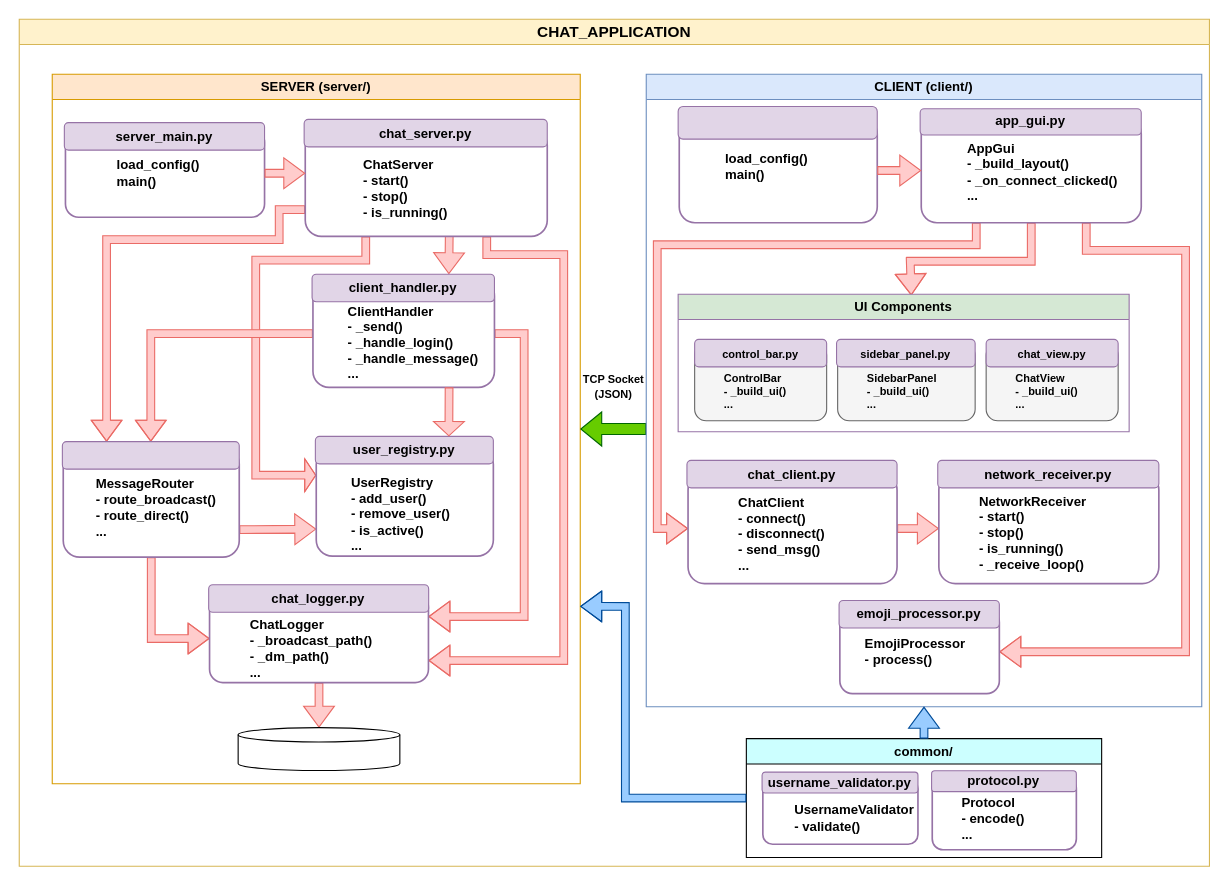
Some shapes in this 1229 by 886 pixel diagram are drawn without their labels. The shapes that lost their labels are listed below. From the top down, each one's centre as x and y in pixels, then its label:
(x=777, y=122): client_main.py
(x=150, y=455): message_router.py
(x=318, y=749): chat_logs/*.json
